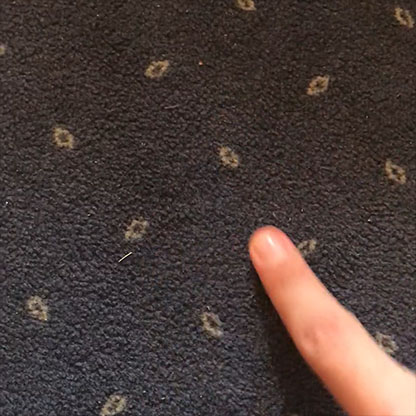fingertip: (236, 223, 311, 271)
